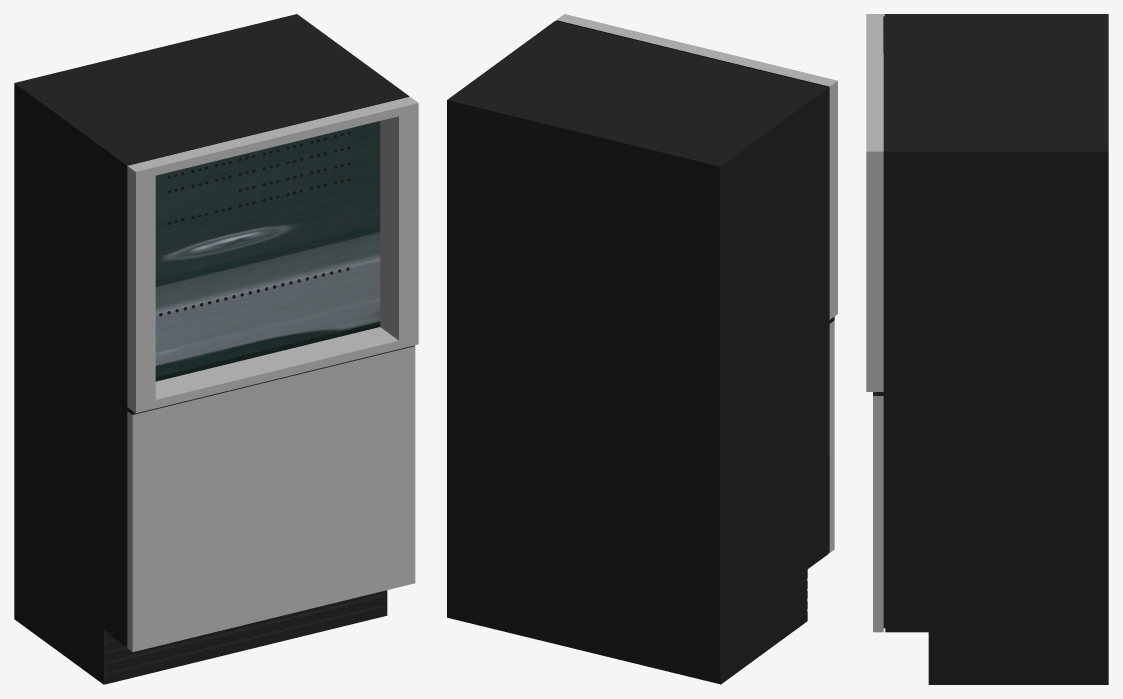
The model's file is Univac_Serveur.glb.
3 renders of one model, left to right at view 1: azimuth 30°, elevation 25°; view 2: azimuth 150°, elevation 25°; view 3: azimuth 270°, elevation 25°, orthographic. The views are drawn at different scales.
Parts seen in each view (by area): view 1: Plane.004; view 2: Plane.004; view 3: Plane.004.
Part boxes in pixels (<box>): Plane.004: <box>14,14,418,684</box>; Plane.004: <box>447,14,837,684</box>; Plane.004: <box>866,14,1108,684</box>.
Bounding box in the file's own units: 0.966 × 1.75 × 0.7193.
Materials: 3 (1 with a texture image).
